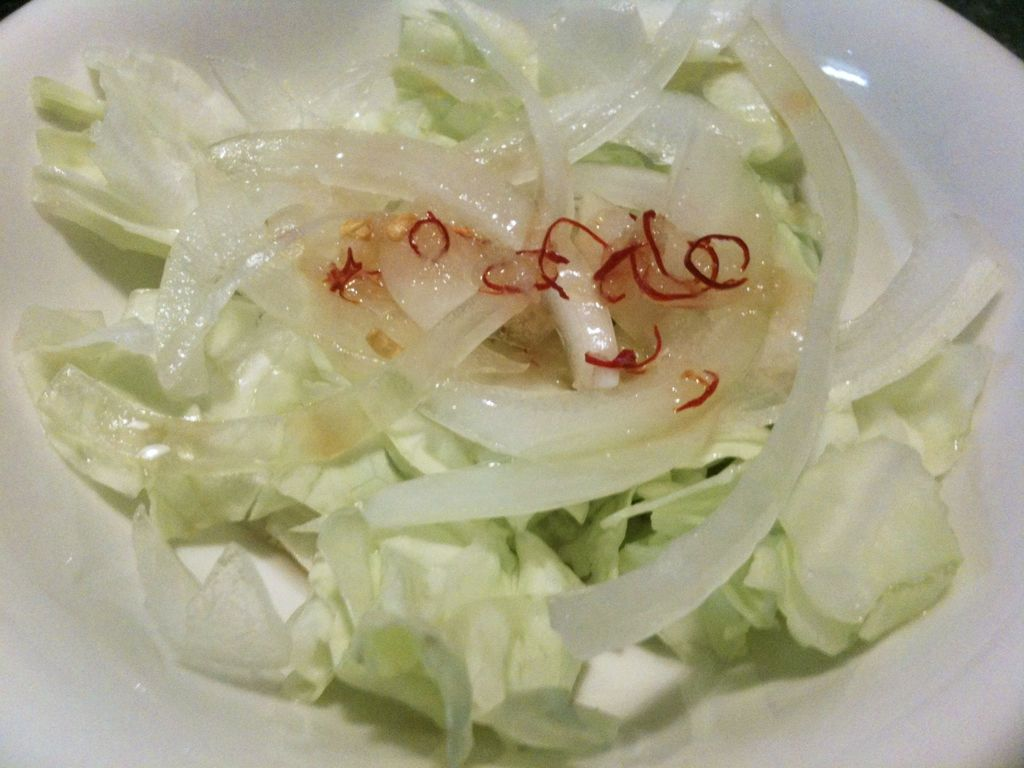Cabbage: (11, 0, 1003, 767)
